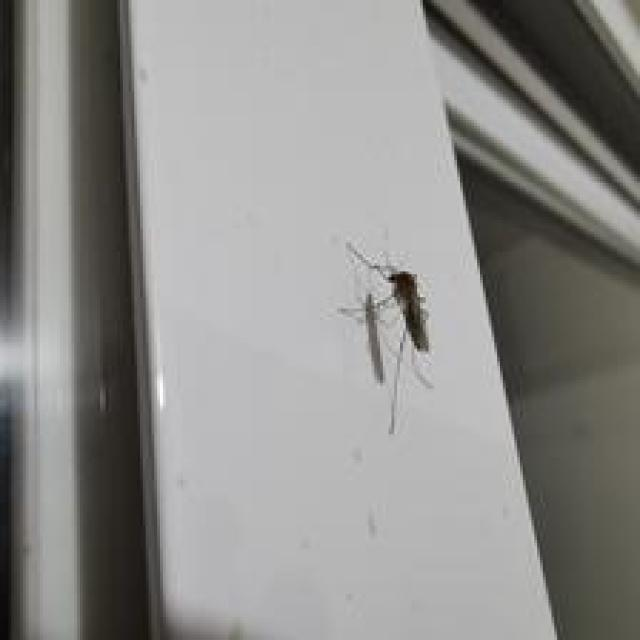Culex: (337, 240, 434, 434)
